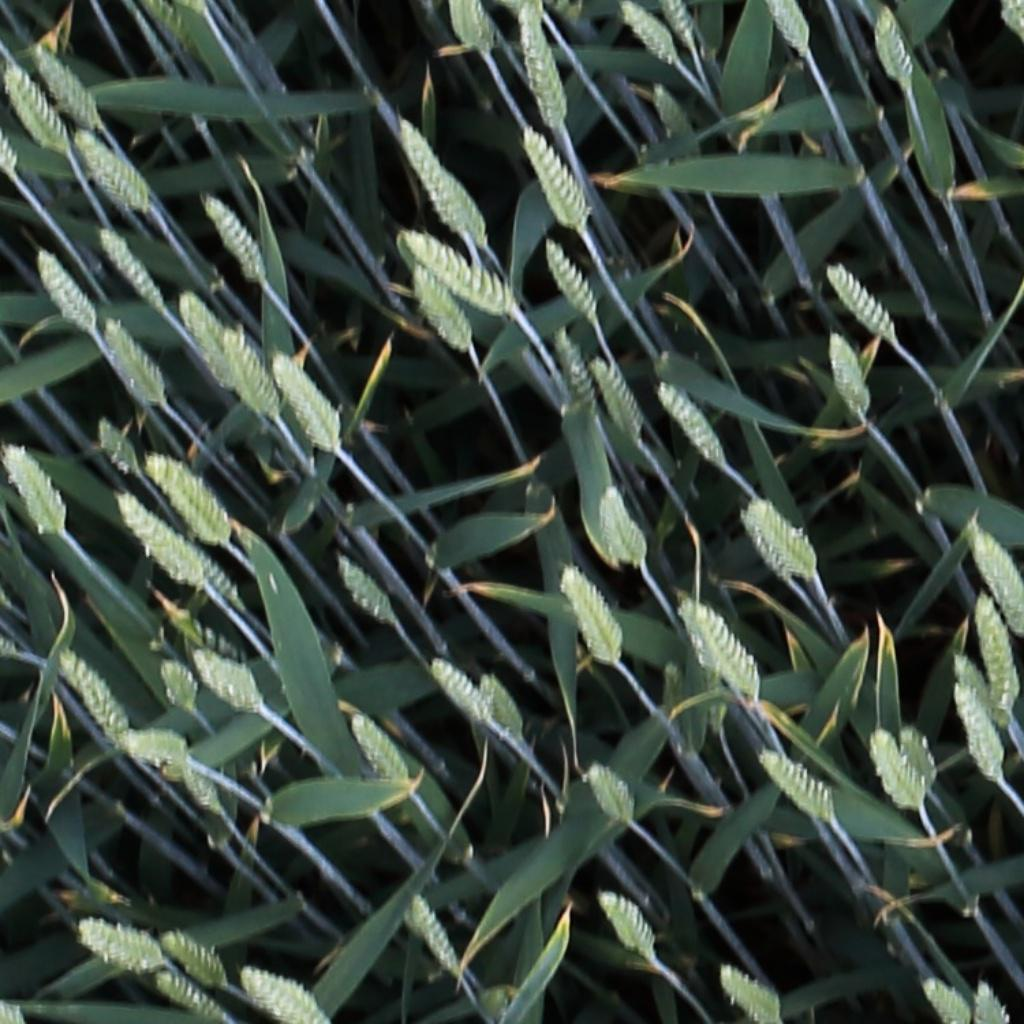0-0: (391, 113, 483, 243), (400, 230, 512, 312), (110, 494, 203, 591), (53, 645, 131, 755), (679, 595, 759, 701), (140, 451, 228, 543), (516, 122, 587, 230), (266, 348, 339, 451), (88, 221, 166, 316), (68, 126, 152, 212), (554, 559, 623, 662), (195, 187, 266, 283), (653, 379, 727, 471), (404, 253, 471, 354), (215, 322, 281, 423), (27, 38, 101, 128), (172, 288, 237, 390), (95, 311, 165, 405), (30, 241, 99, 335), (514, 10, 567, 131), (2, 439, 66, 539), (1, 61, 69, 154), (821, 259, 898, 341), (969, 524, 1024, 636), (745, 498, 818, 582), (536, 230, 600, 323), (547, 320, 599, 434), (401, 887, 464, 981), (973, 589, 1021, 711), (950, 678, 1004, 785), (584, 352, 644, 445), (758, 749, 832, 823), (865, 726, 925, 817), (344, 708, 408, 791), (329, 551, 397, 629), (644, 73, 701, 165), (75, 914, 162, 974), (240, 967, 333, 1022), (185, 649, 258, 714), (425, 656, 491, 727), (596, 481, 646, 570), (823, 326, 869, 420), (595, 887, 658, 953), (157, 932, 226, 991), (614, 0, 674, 66), (473, 669, 525, 742), (948, 651, 1003, 718), (580, 761, 634, 828), (151, 972, 222, 1022), (716, 965, 779, 1021), (740, 513, 793, 578), (872, 4, 912, 90), (90, 413, 139, 480), (176, 551, 242, 599), (139, 0, 195, 54), (894, 723, 937, 793), (174, 759, 222, 821), (765, 0, 815, 58), (152, 655, 196, 716), (114, 728, 190, 762), (918, 976, 969, 1024), (454, 0, 494, 60), (970, 974, 1011, 1024), (658, 0, 699, 50), (1002, 0, 1024, 46)
